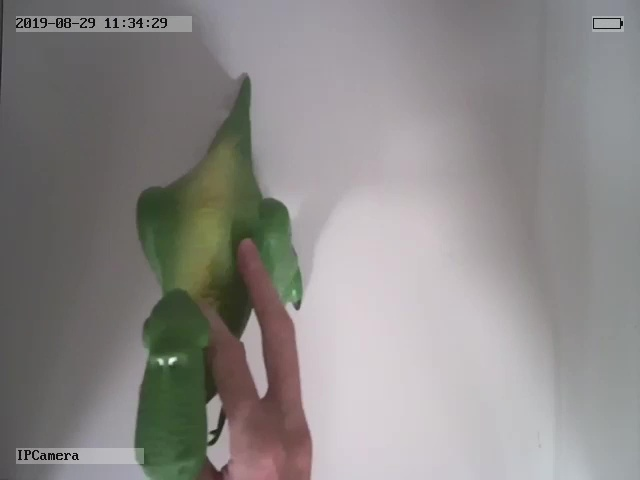rex: (136, 71, 302, 480)
